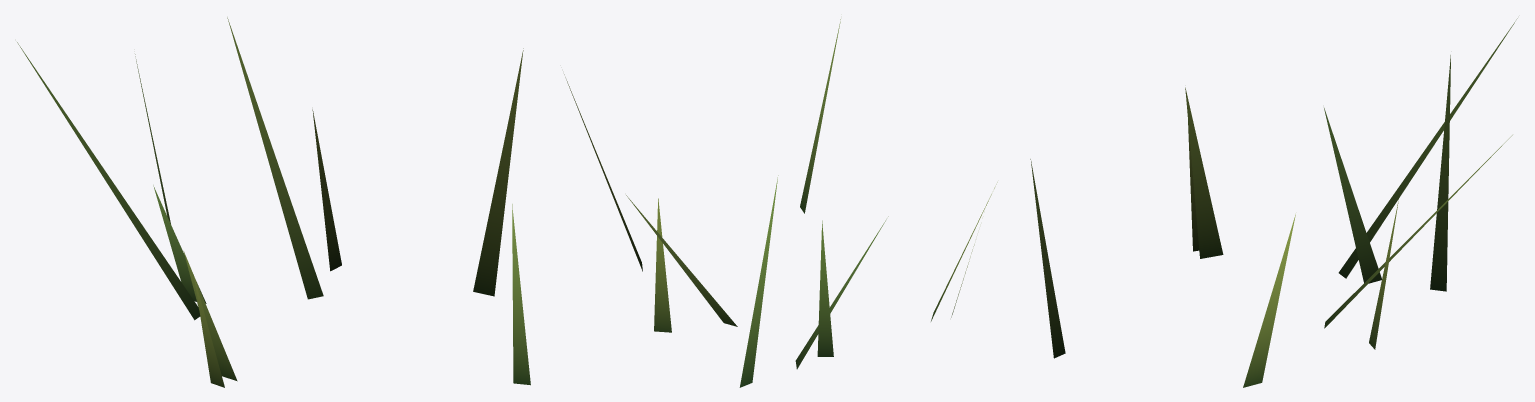
The model's file is grass-lawn-b.lod2.glb.
3 views of the same model, side by side, from view 1: azimuth 30°, elevation 25°; view 2: azimuth 150°, elevation 25°; view 3: azimuth 270°, elevation 25° (orthographic). The views are drawn at different scales.
Size of the model in its own units: 0.3575 by 0.2001 by 0.4021.
